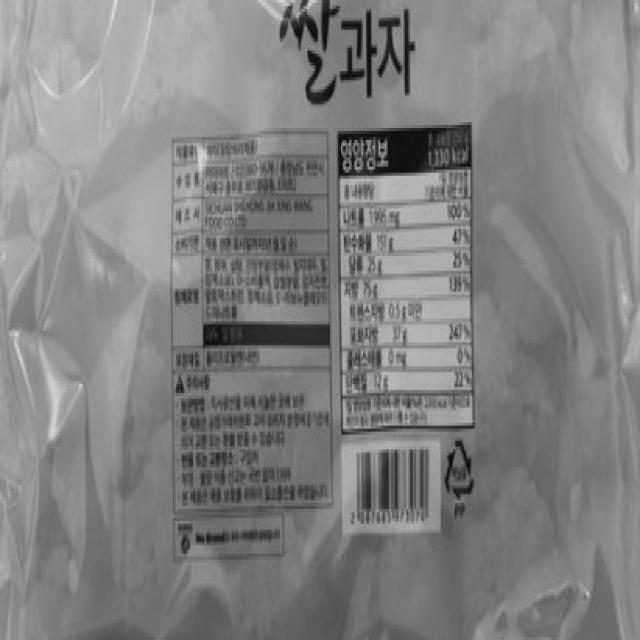Nutrition Label: (333, 115, 483, 444)
